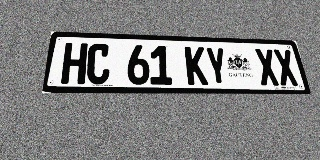1: (150, 45, 172, 85)
6: (127, 45, 150, 85)
C: (86, 43, 111, 84)
H: (60, 43, 88, 84)
K: (184, 46, 208, 85)
X: (272, 49, 299, 86), (254, 49, 280, 86)
Y: (205, 47, 229, 85)
